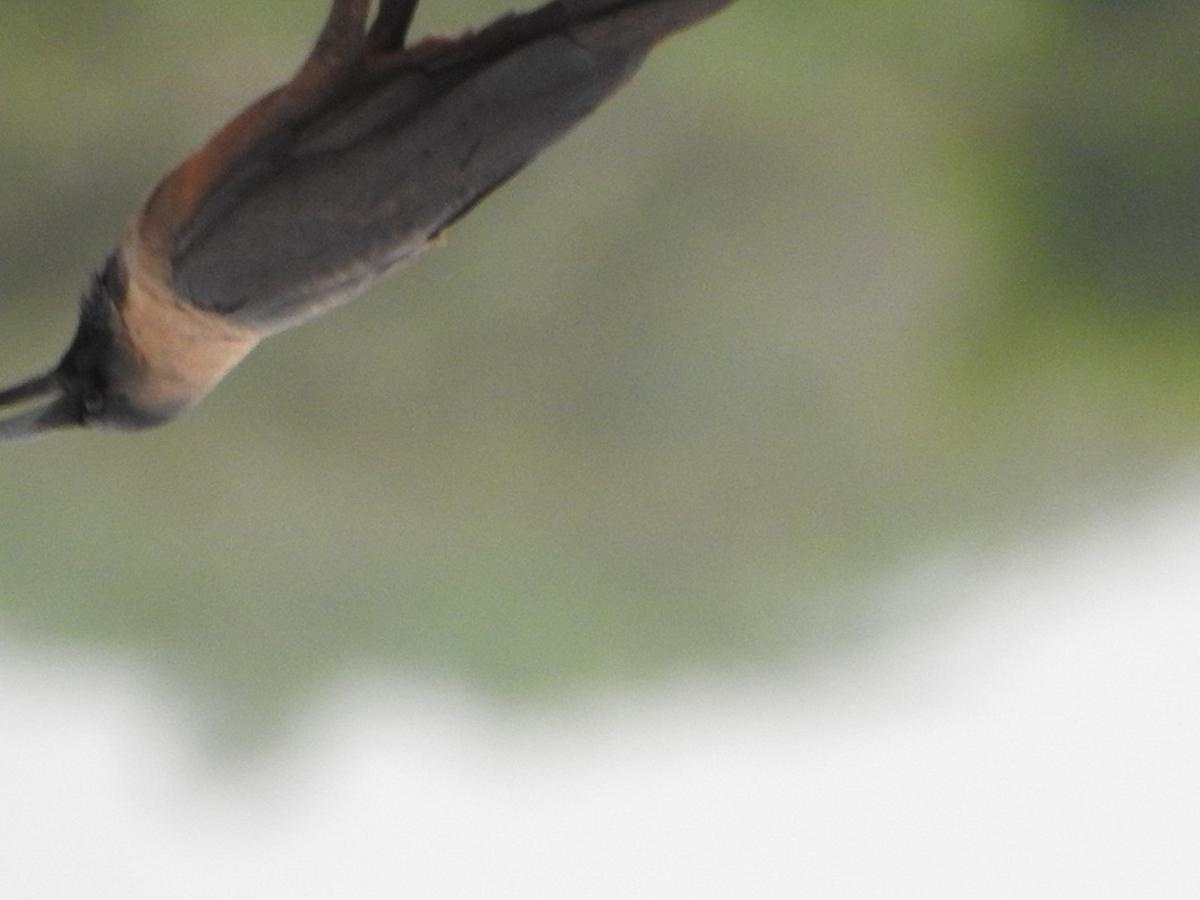crow: (1, 1, 731, 457)
